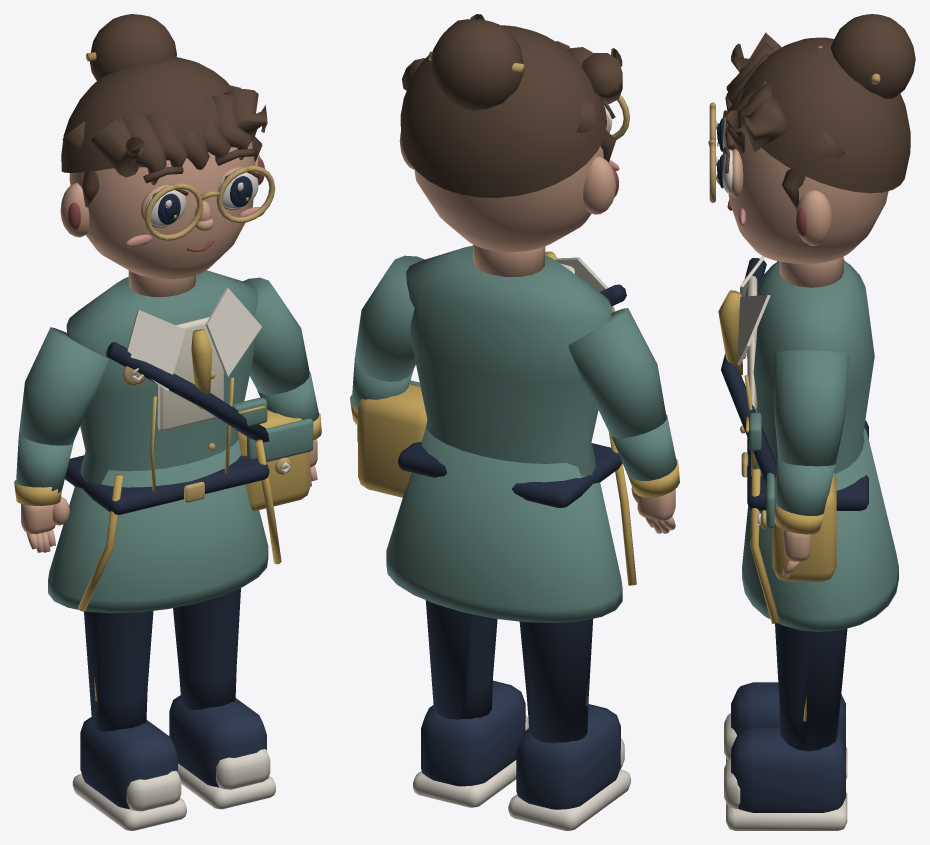
Rendered from npc_region_lieutenant_3.glb.
3 views of the same model, side by side, from view 1: azimuth 30°, elevation 25°; view 2: azimuth 150°, elevation 25°; view 3: azimuth 270°, elevation 25° (orthographic). The views are drawn at different scales.
Parts seen in each view (by area): view 1: figure.025; view 2: figure.025; view 3: figure.025.
Boxes of the visible parts, box(x1,y1,x2,y2) form: figure.025: box(14, 14, 321, 830); figure.025: box(350, 14, 679, 830); figure.025: box(708, 14, 915, 830).
Size of the model in its own units: 0.7221 by 1.72 by 0.4156.
